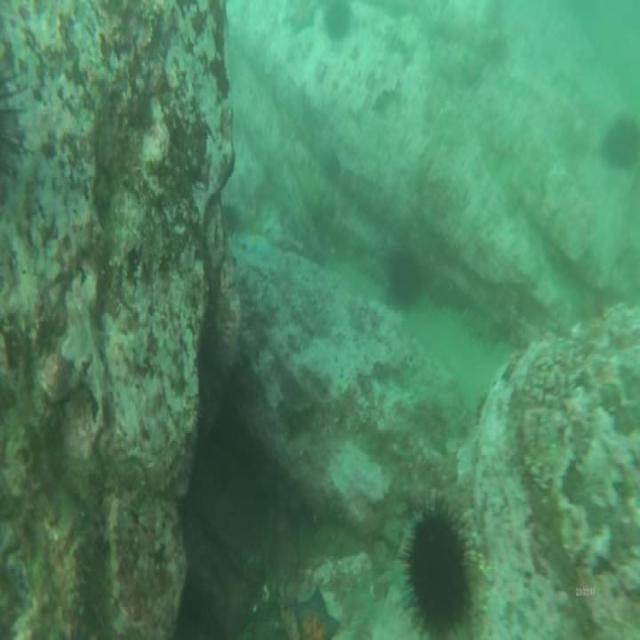echinus: (406, 507, 469, 640), (600, 110, 640, 176), (385, 248, 420, 300), (328, 2, 350, 42)
holothurian: (461, 308, 503, 348)
starfish: (292, 589, 338, 640), (290, 2, 313, 33)
